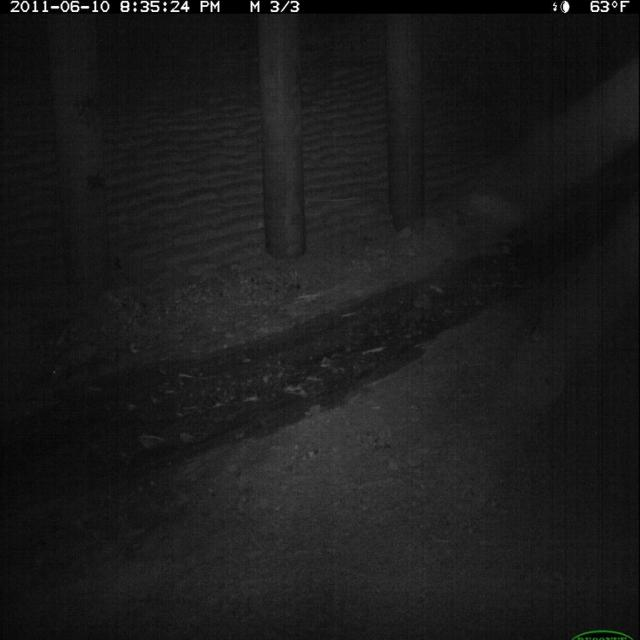opossum: (46, 332, 138, 395)
